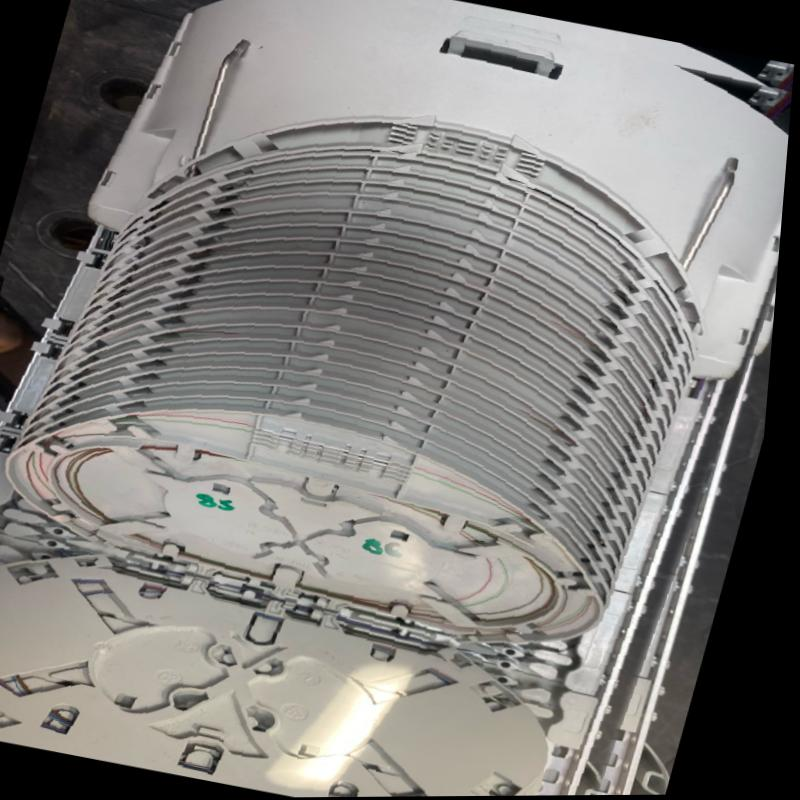NT-Muffen: (0, 0, 791, 798)
